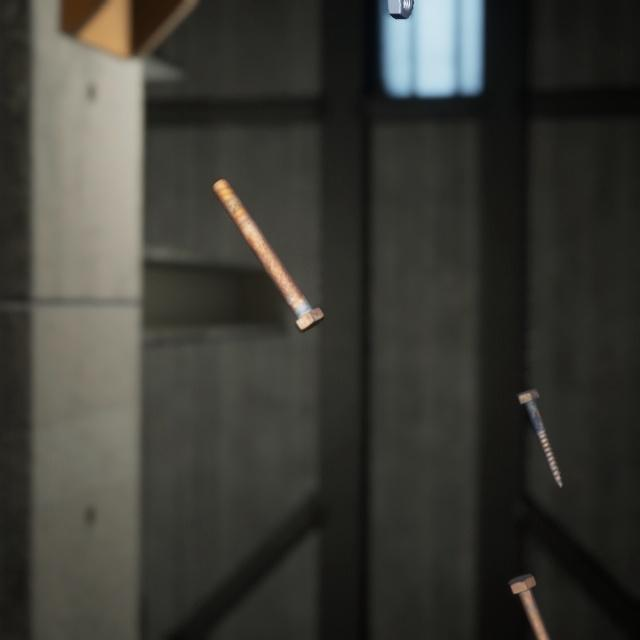bolt: (207, 157, 328, 320), (511, 363, 567, 472), (503, 545, 564, 640)
